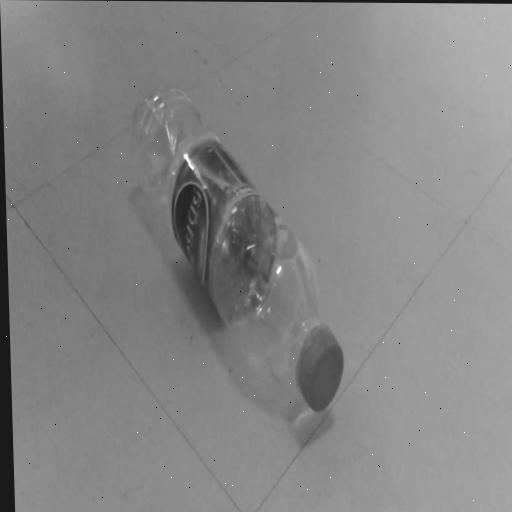bottle: (115, 73, 368, 437)
